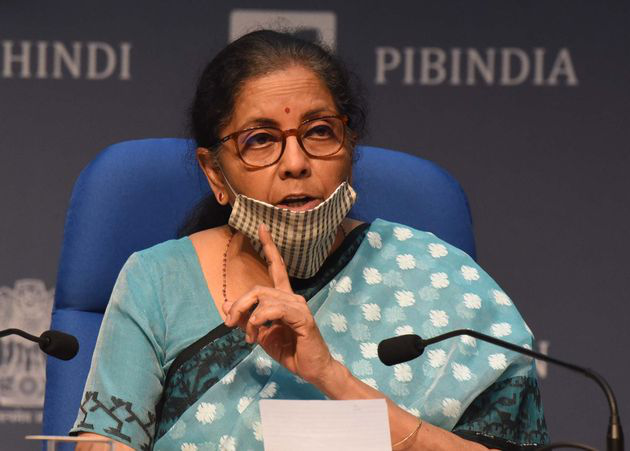mask_weared_incorrect: (193, 78, 364, 282)
